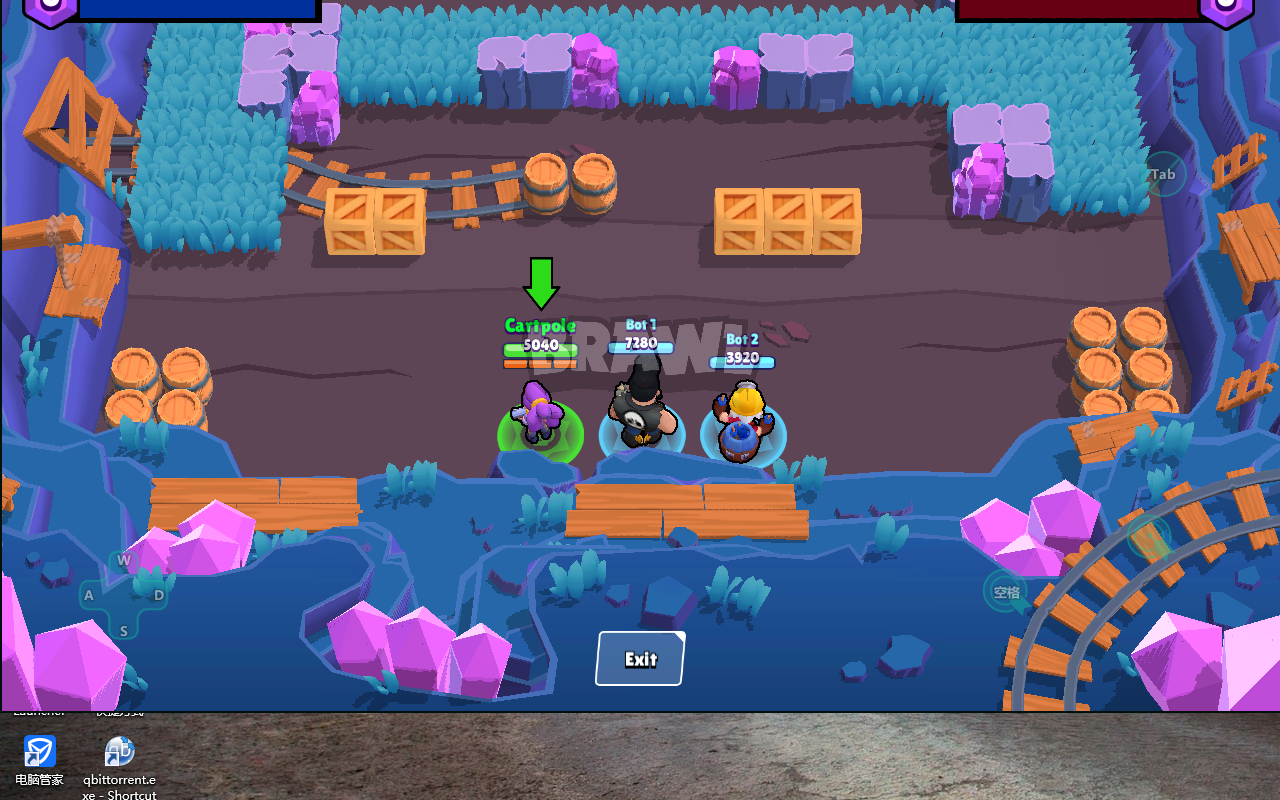current_player: (494, 403, 586, 468)
